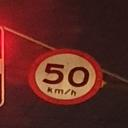speed_limit_50: (27, 48, 104, 105)
